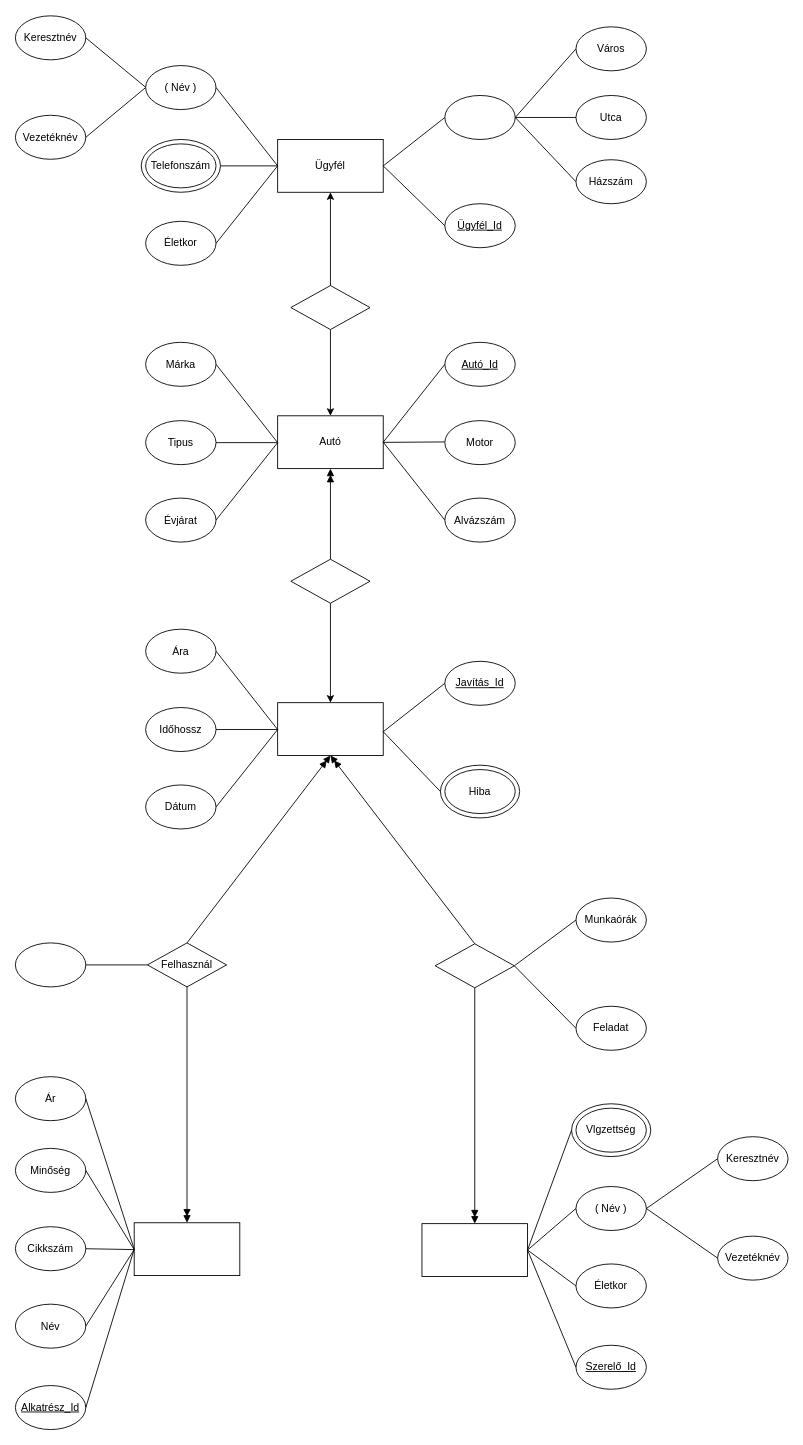
This 803x1445 diagram has some shape labels left out. The centre of each missing label's shape, as x and y in pixels:
( Cím ): (x=479, y=117)
Alkatrész: (x=186, y=1249)
Javítva_volt: (x=330, y=580)
Javítás: (x=330, y=728)
Mennyiség: (x=50, y=964)
Szerelő: (x=474, y=1249)
Tulajdonos: (x=330, y=307)
Végzi: (x=474, y=965)
